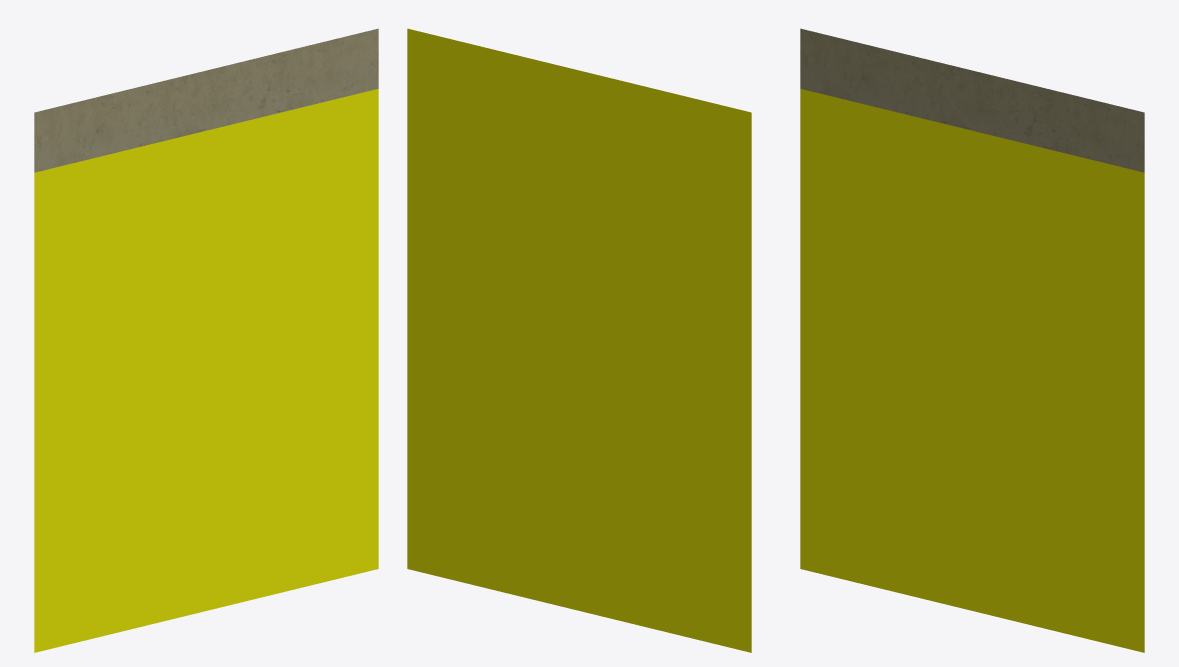
File: brick-toptrim.glb
3 views of the same model, side by side, from view 1: azimuth 30°, elevation 25°; view 2: azimuth 150°, elevation 25°; view 3: azimuth 330°, elevation 25° (orthographic).
Visible parts, largest first — view 1: Brick_TopTrim; view 2: Brick_TopTrim; view 3: Brick_TopTrim.
Part boxes in pixels (<box>): Brick_TopTrim: <box>34,28,378,652</box>; Brick_TopTrim: <box>407,28,751,652</box>; Brick_TopTrim: <box>800,28,1144,652</box>.
Bounding box in the file's own units: 2 × 3 × 0.2.
Materials: 2 (1 with a texture image).
